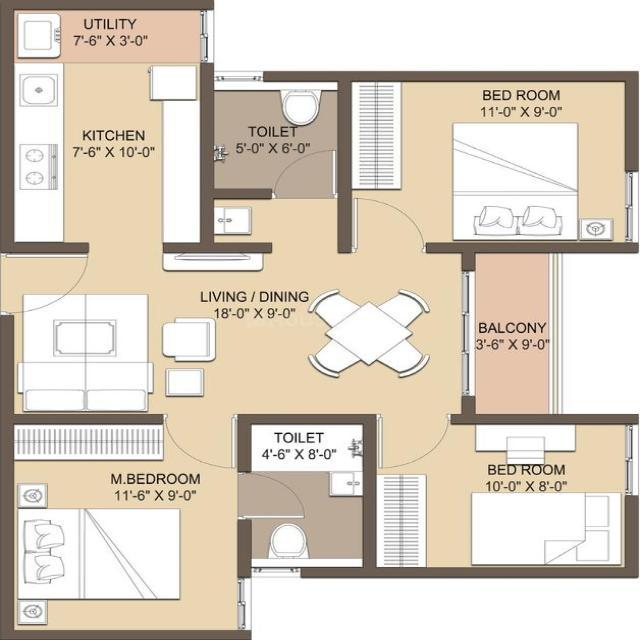Balcony-Sitout: (462, 243, 565, 427)
Bedroom: (338, 73, 637, 254), (363, 414, 640, 577)
Bedroom with Toilet: (1, 416, 369, 640)
Dining: (296, 287, 442, 381)
Kitchen: (0, 65, 215, 254)
Living: (3, 244, 231, 420)
Toilet: (197, 70, 350, 254), (238, 414, 376, 586)
Utility: (0, 0, 213, 69)
